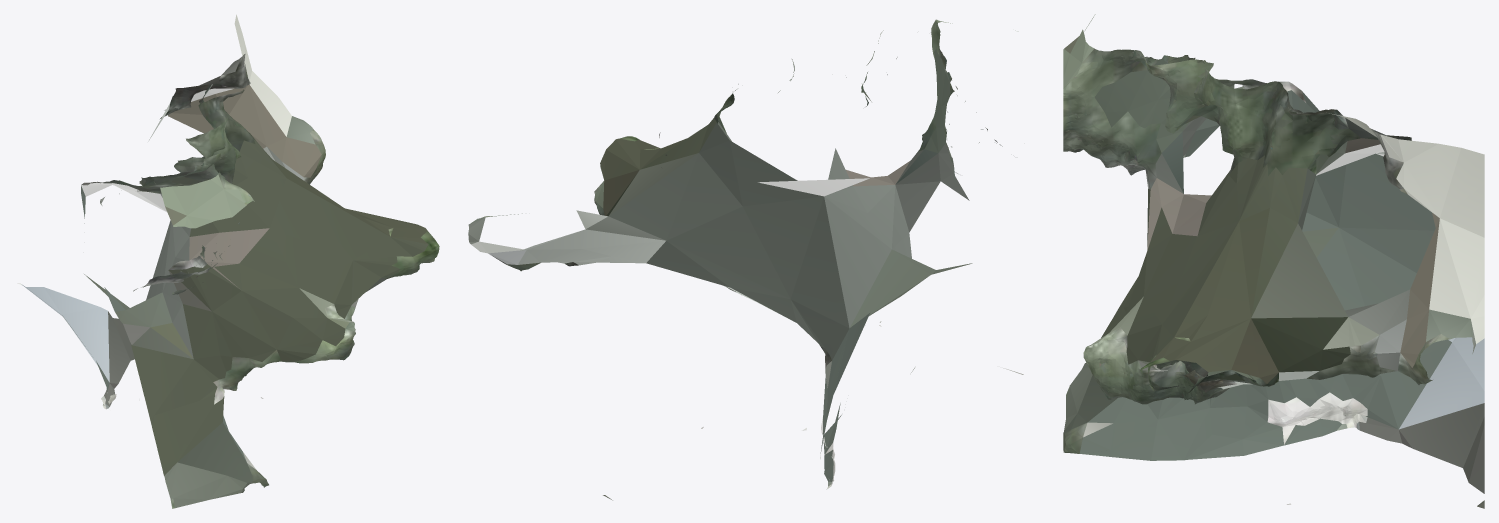
3 views of the same model, side by side, from view 1: azimuth 30°, elevation 25°; view 2: azimuth 150°, elevation 25°; view 3: azimuth 270°, elevation 25° (orthographic). The views are drawn at different scales.
Bounding box in the file's own units: 1.97 × 1.97 × 1.97.
1 material, 1 textured.
